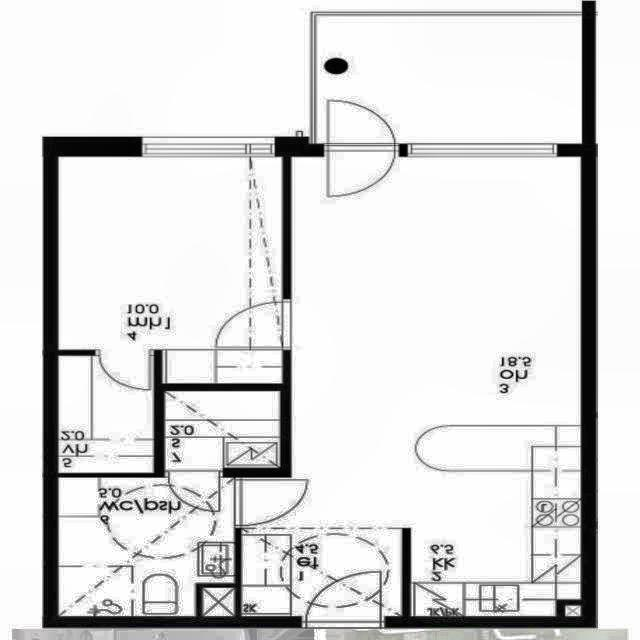room: (59, 157, 283, 384), (316, 15, 582, 144), (59, 478, 234, 616), (59, 356, 154, 473), (164, 392, 280, 469)
